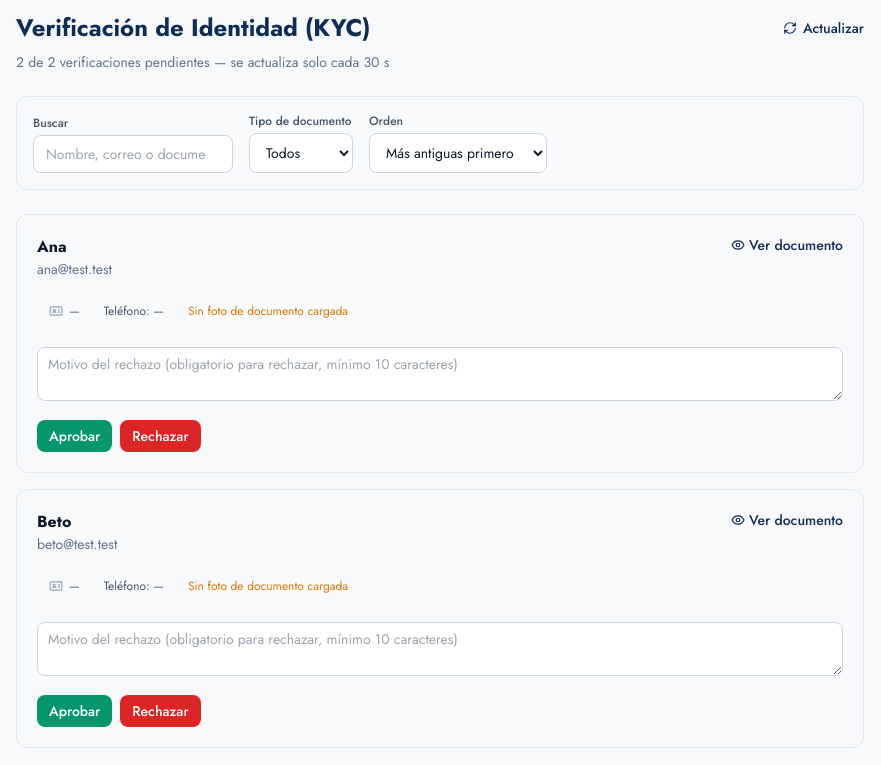
it: AgentKycPanel › filtra por búsqueda de nombre o correo
This screenshot has width=881, height=765.
Expected: the text "ana@test.test" is shown, [37, 259, 112, 279]
Type "beto" into the search field labelled "Buscar" at point(133, 154), box [33, 135, 233, 173]
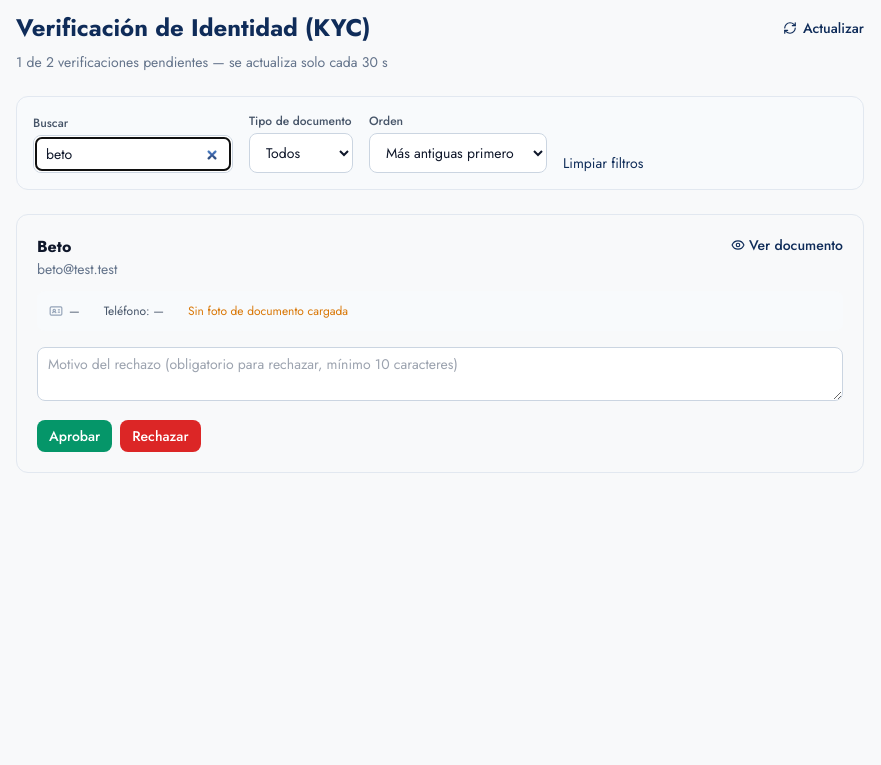
Expected: the text "beto@test.test" is shown, [37, 259, 117, 279]
Expected: the text "ana@test.test" is gone
Expected: the text "1 de 2 verificaciones" is shown, [16, 52, 388, 72]
